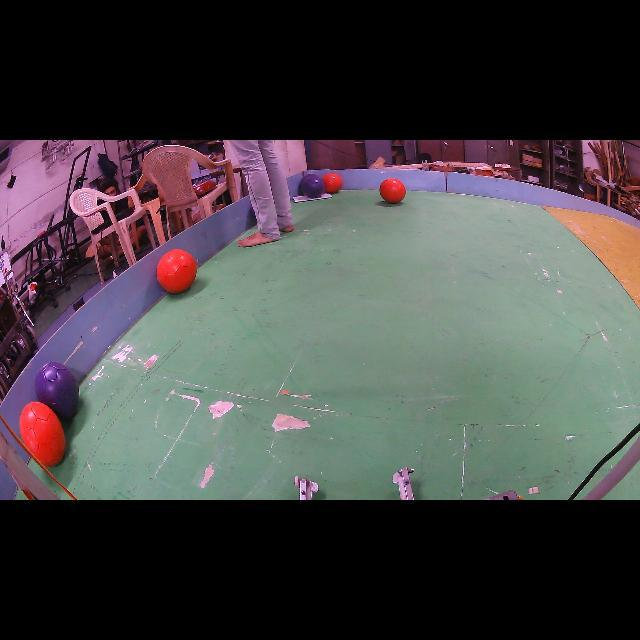P: (35, 361, 79, 419), (301, 174, 325, 199)
R: (20, 401, 65, 466), (156, 250, 198, 294), (380, 179, 406, 204), (322, 172, 342, 192)
